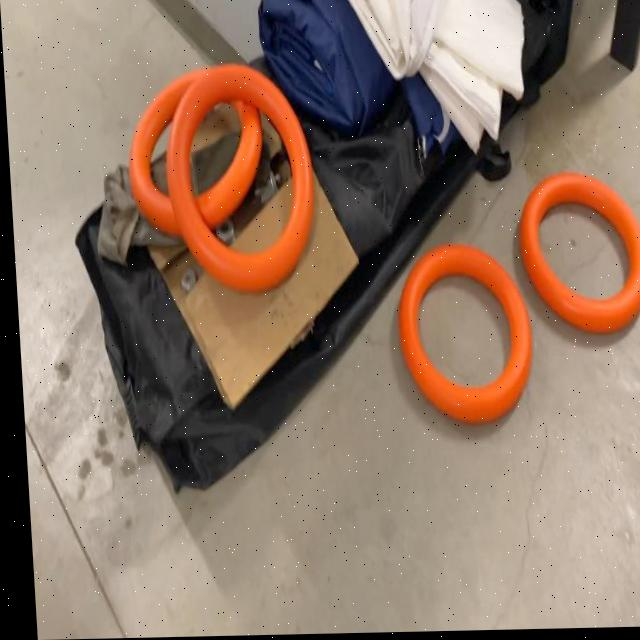note: (159, 64, 317, 298), (391, 243, 533, 431), (122, 63, 265, 239), (515, 171, 640, 340)
